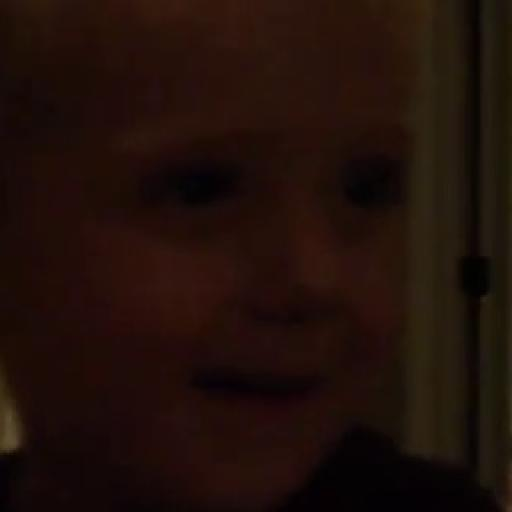Autism: (60, 15, 488, 506)
